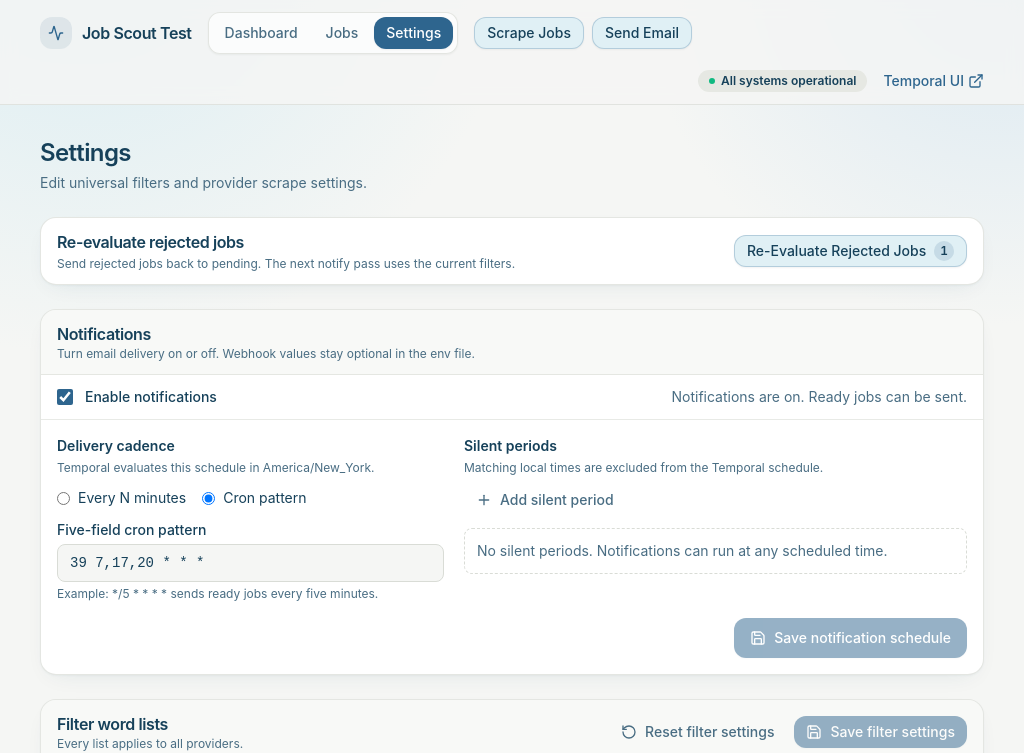
Test: operator shell › saves an interval notification schedule with a silent period
Click the radio button labelled "Every N minutes": (64, 498) left=57, top=492, right=70, bottom=504
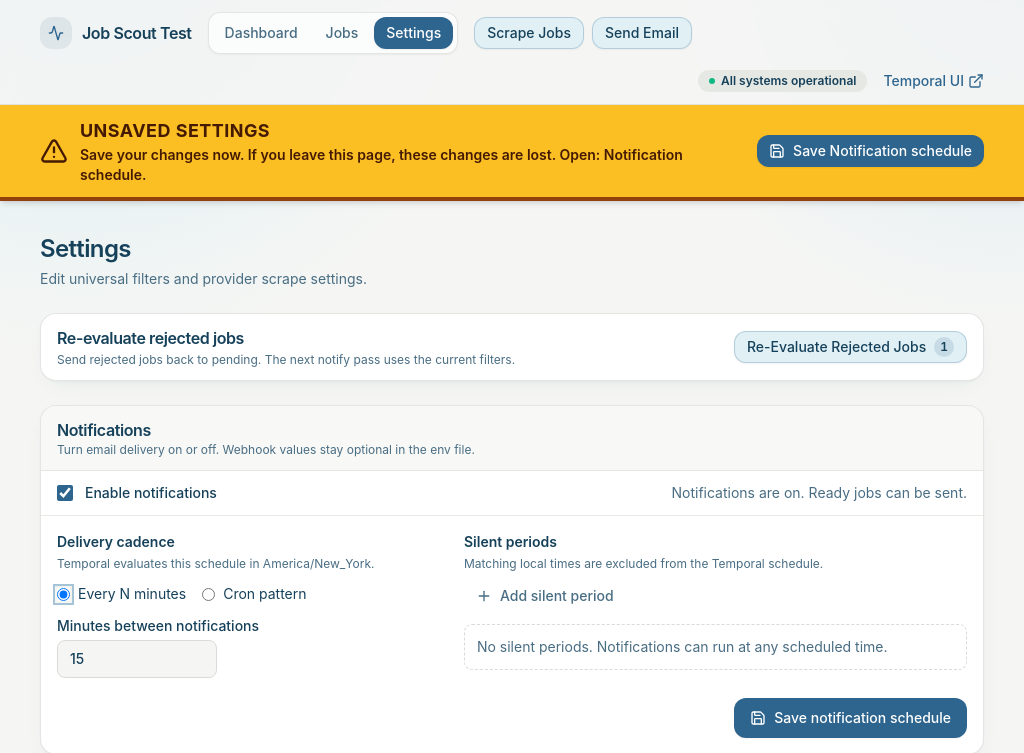
Replace the text in the number field labelled "Minutes between notifications" with "5": (137, 659) left=57, top=640, right=217, bottom=678
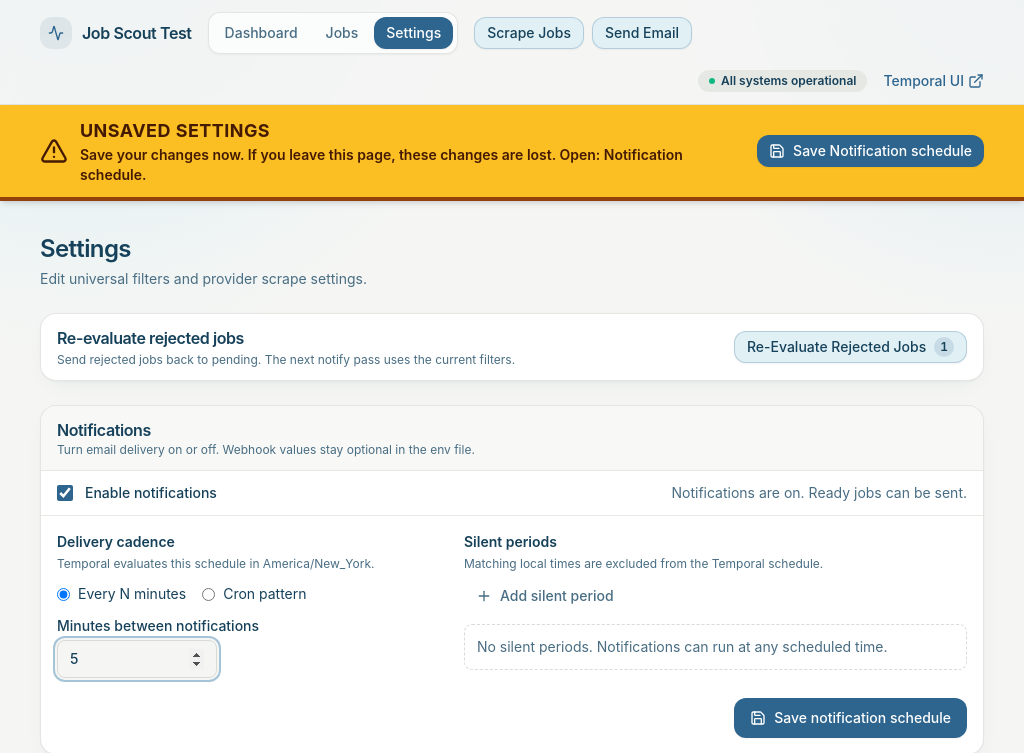
Click the button "Add silent period": (545, 596) left=464, top=580, right=626, bottom=612
(page scrolled)
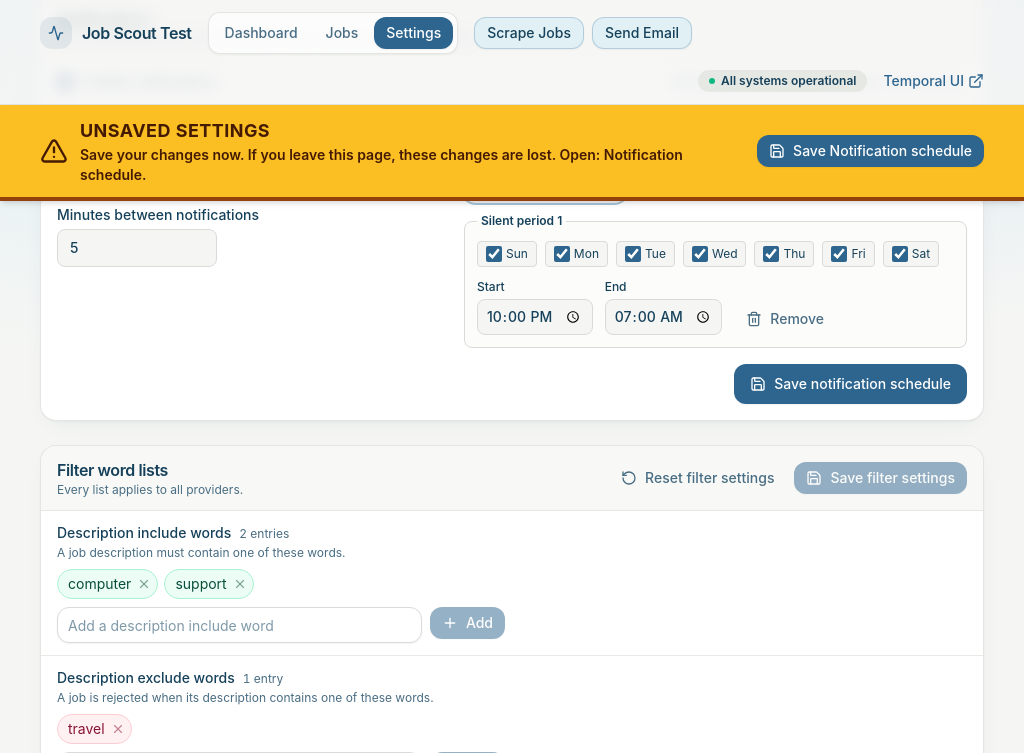
Expected: the button "Save notification schedule" is enabled
Click the button "Save notification schedule": (851, 384) left=734, top=364, right=967, bottom=404
(page scrolled)
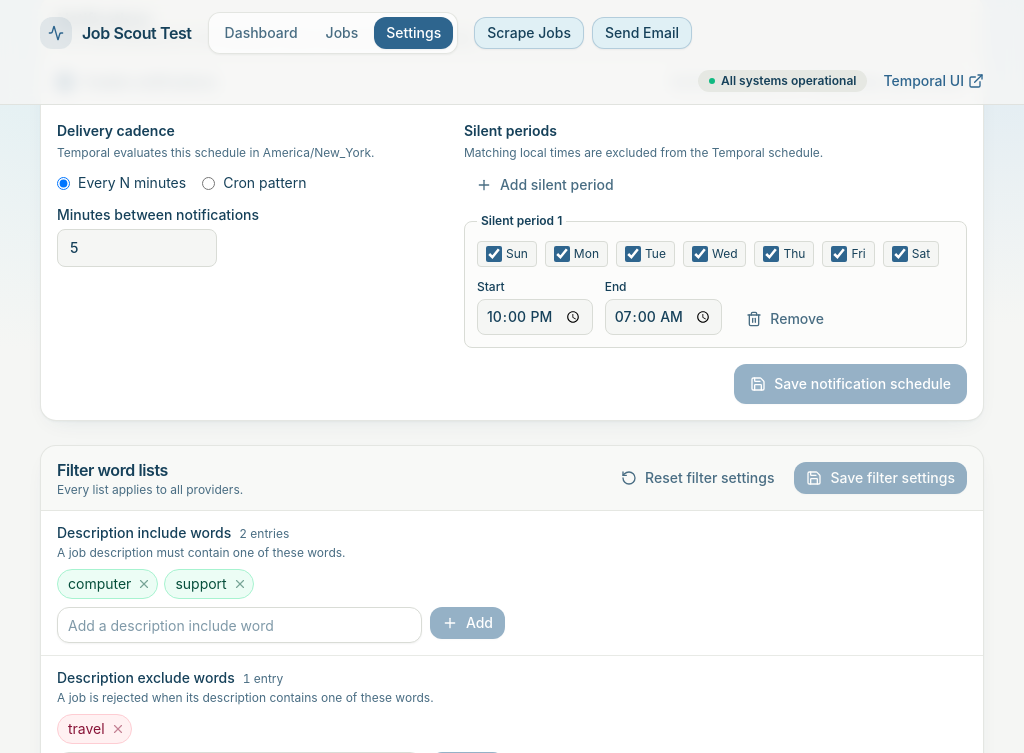
Expected: the button "Save notification schedule" is disabled, left=734, top=364, right=967, bottom=404
